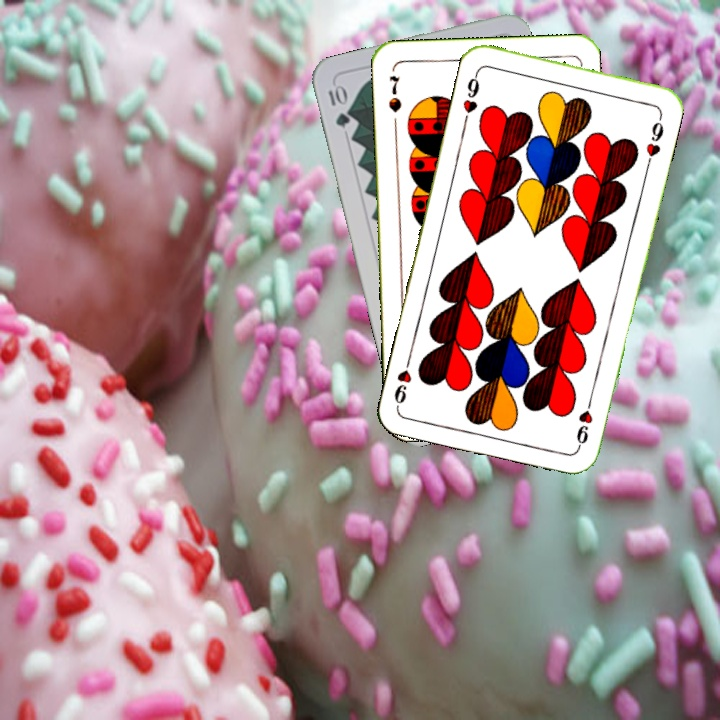G10: (324, 80, 353, 130)
H9: (572, 392, 596, 451), (458, 67, 482, 116)
S7: (385, 72, 404, 115)
